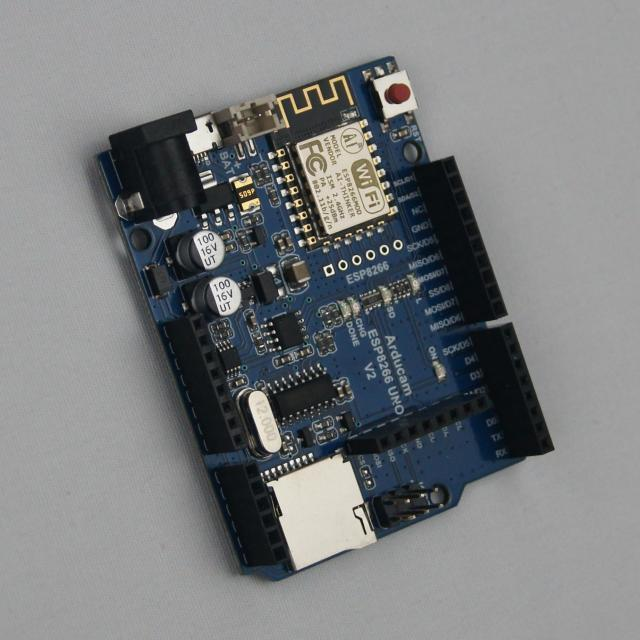Arduino Uno Camera Shield: (99, 57, 554, 580)
